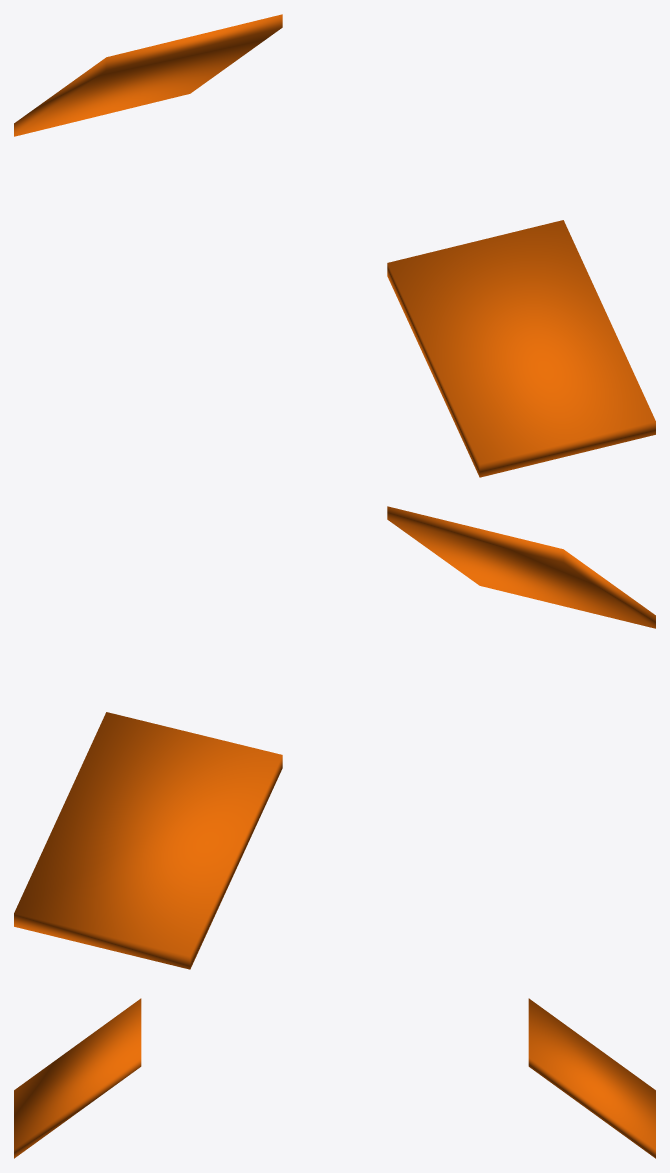
Rendered from gazebo_collisionHelpers.fbx.
3 renders of one model, top to bottom at view 1: azimuth 30°, elevation 25°; view 2: azimuth 150°, elevation 25°; view 3: azimuth 270°, elevation 25°, orthographic. The views are drawn at different scales.
Parts seen in each view (by area): view 1: collisionConvex, collisionConvex.468; view 2: collisionConvex.468, collisionConvex; view 3: collisionConvex, collisionConvex.468.
Part boxes in pixels (bbox=[...]): collisionConvex: bbox=[387, 220, 655, 477]; collisionConvex.468: bbox=[14, 14, 282, 136]; collisionConvex.468: bbox=[14, 712, 282, 969]; collisionConvex: bbox=[387, 506, 655, 628]; collisionConvex: bbox=[14, 998, 141, 1158]; collisionConvex.468: bbox=[528, 998, 655, 1158].
Size of the model in its own units: 277 by 221 by 1266.
